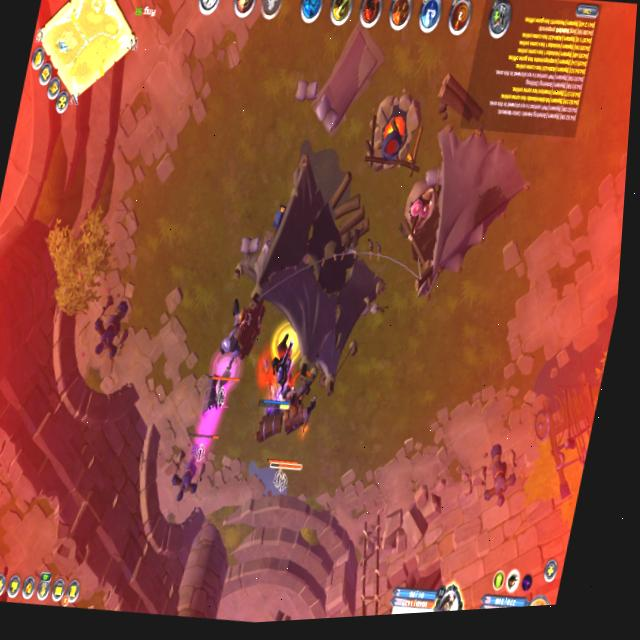ore: (267, 350, 327, 477), (182, 357, 244, 468), (209, 288, 273, 390)
red: (256, 324, 309, 413)
